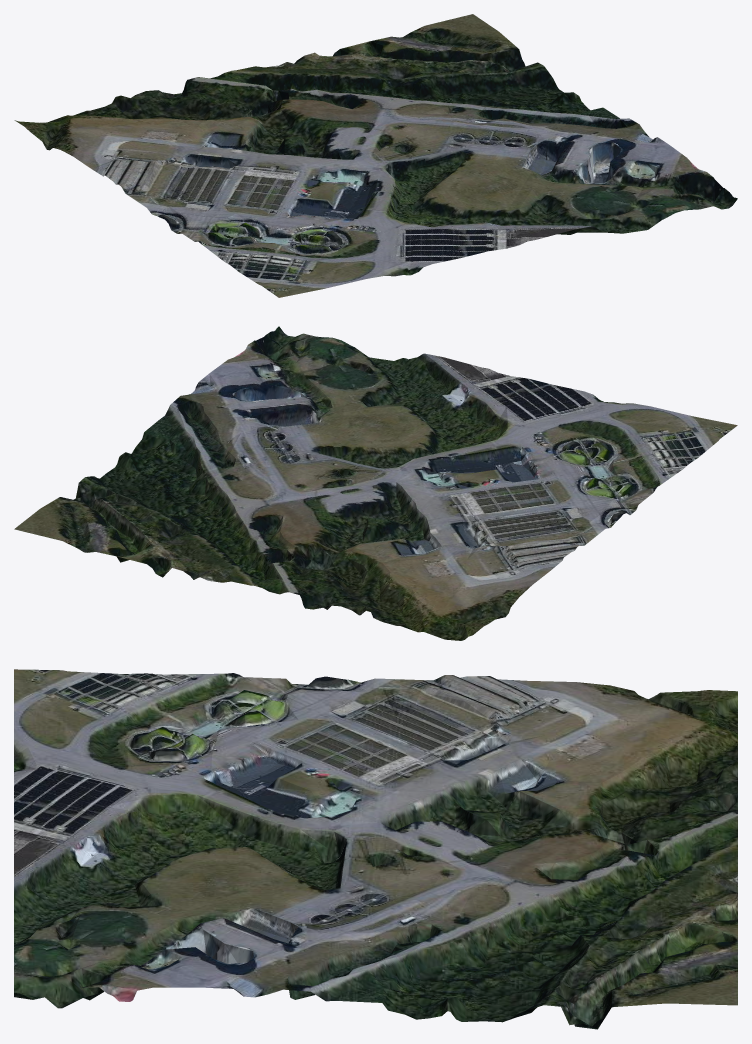
File: map_13_2045_3444.dae
3 views of the same model, one above another, from view 1: azimuth 30°, elevation 25°; view 2: azimuth 150°, elevation 25°; view 3: azimuth 270°, elevation 25° (orthographic). The views are drawn at different scales.
Parts seen in each view (by area): view 1: Ter0; view 2: Ter0; view 3: Ter0.
Boxes of the visible parts, x1,y1,x2,y2 form: Ter0: (14,14,737,297); Ter0: (14,326,737,640); Ter0: (14,669,737,1029).
Bounding box in the file's own units: 256 × 256 × 24.77.
2 materials, 2 textured.
